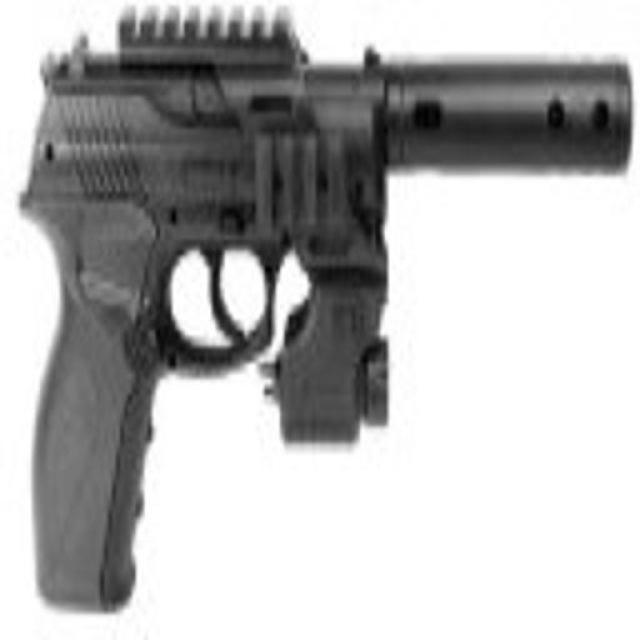pistol: (15, 21, 631, 607)
